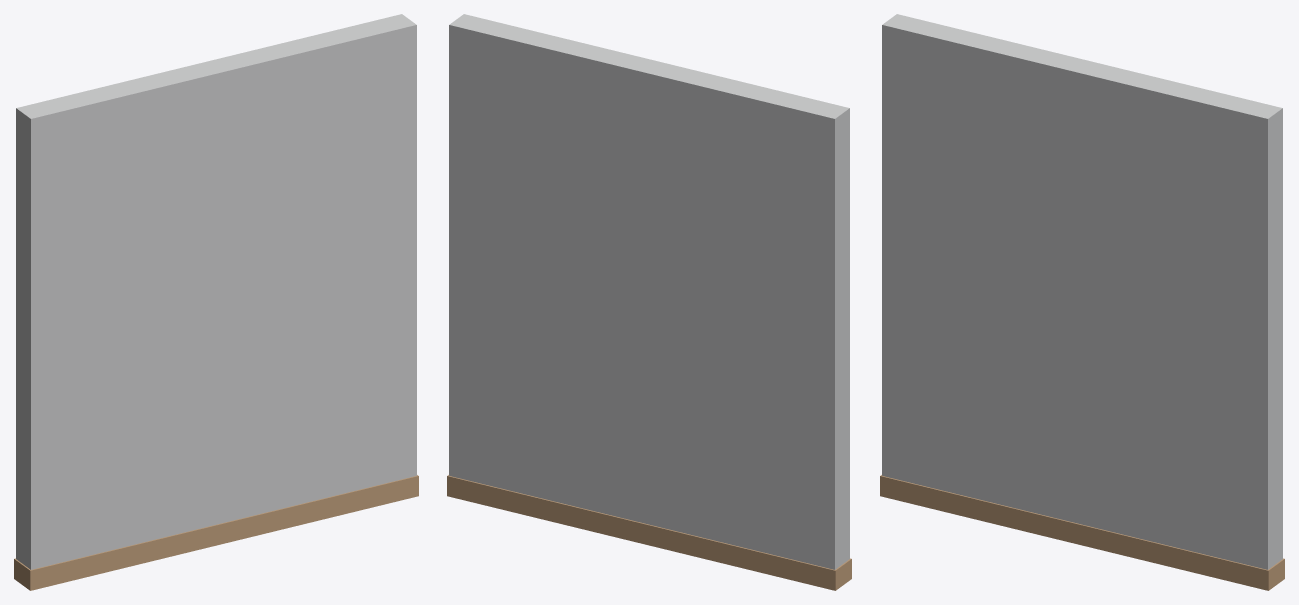
The model's file is Building_Modular_Wall_01.fbx.
3 views of the same model, side by side, from view 1: azimuth 30°, elevation 25°; view 2: azimuth 150°, elevation 25°; view 3: azimuth 330°, elevation 25° (orthographic).
Parts seen in each view (by area): view 1: Building_Modular_Wall_01; view 2: Building_Modular_Wall_01; view 3: Building_Modular_Wall_01.
Part boxes in pixels (left/top/right/bottom): Building_Modular_Wall_01: left=14, top=14, right=418, bottom=590; Building_Modular_Wall_01: left=447, top=14, right=851, bottom=590; Building_Modular_Wall_01: left=880, top=14, right=1284, bottom=590.
Size of the model in its own units: 3.02 by 3.5 by 0.22.
